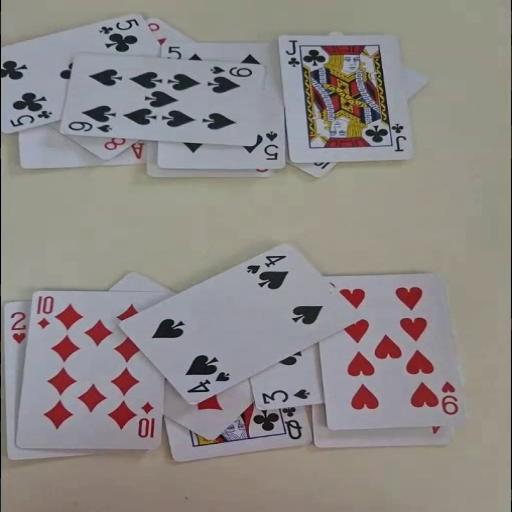10: (135, 399, 156, 439), (34, 293, 54, 330)
2: (8, 309, 28, 345)
4: (183, 370, 232, 394), (243, 253, 288, 275)
5: (7, 108, 54, 128), (96, 16, 140, 35), (262, 128, 280, 160)
8: (101, 135, 127, 151)
9: (438, 378, 460, 416), (207, 64, 254, 78), (65, 120, 112, 132)
J: (388, 121, 407, 152), (284, 39, 300, 68)
